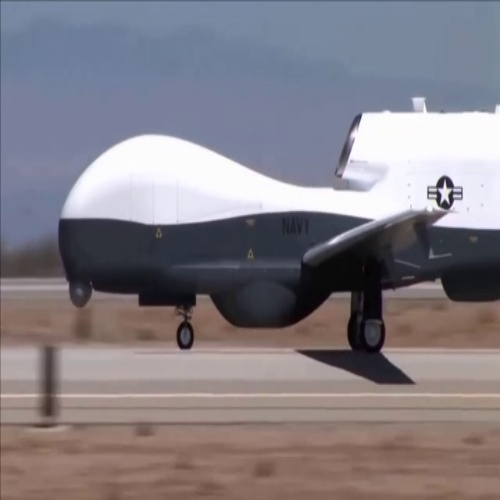uav1013: (53, 103, 500, 352)
